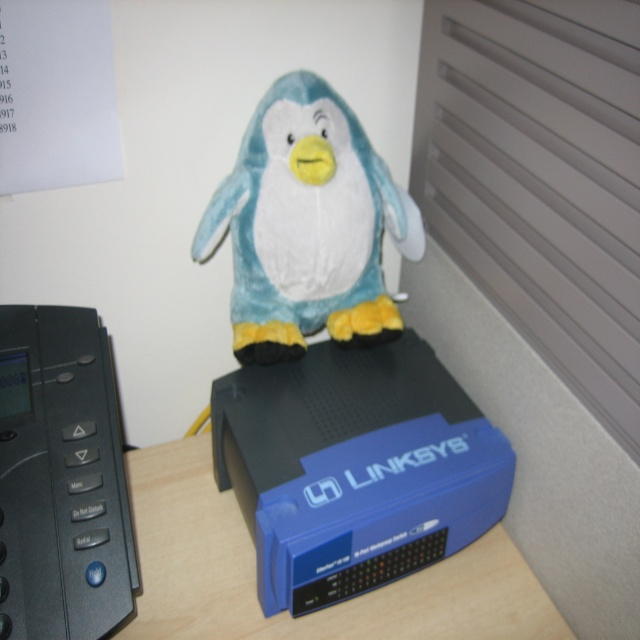Penguin: (192, 71, 424, 361)
